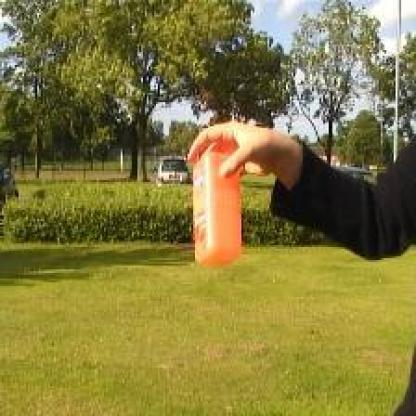other: (176, 146, 262, 266)
